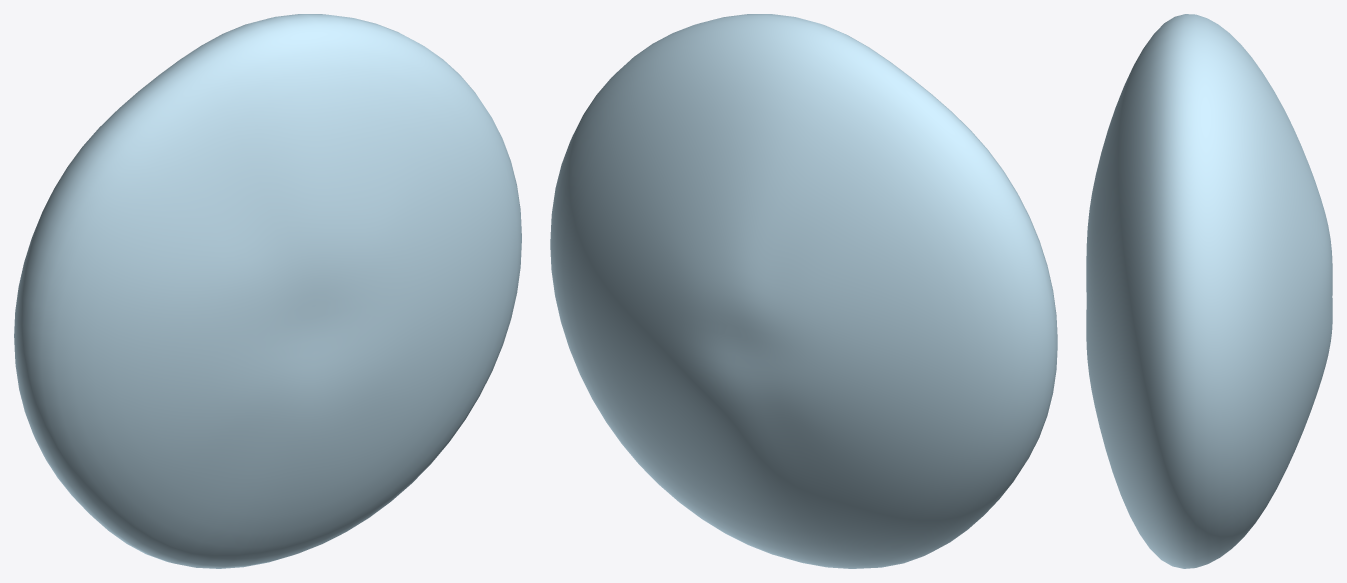
The model's file is capsuleandlens.glb.
3 views of the same model, side by side, from view 1: azimuth 30°, elevation 25°; view 2: azimuth 150°, elevation 25°; view 3: azimuth 270°, elevation 25° (orthographic). The views are drawn at different scales.
Visible parts, largest first — view 1: CapsularBag; view 2: CapsularBag; view 3: CapsularBag.
Part boxes in pixels (x1,y1,x2,y2): CapsularBag: (14,14,521,568); CapsularBag: (550,14,1057,568); CapsularBag: (1086,14,1332,568).
Bounding box in the file's own units: 3.31 × 3.4 × 1.47.
